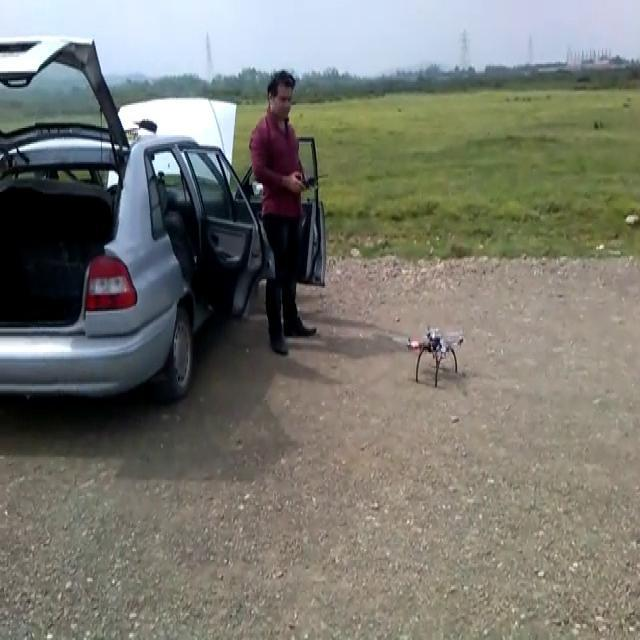drone: (399, 320, 467, 390)
